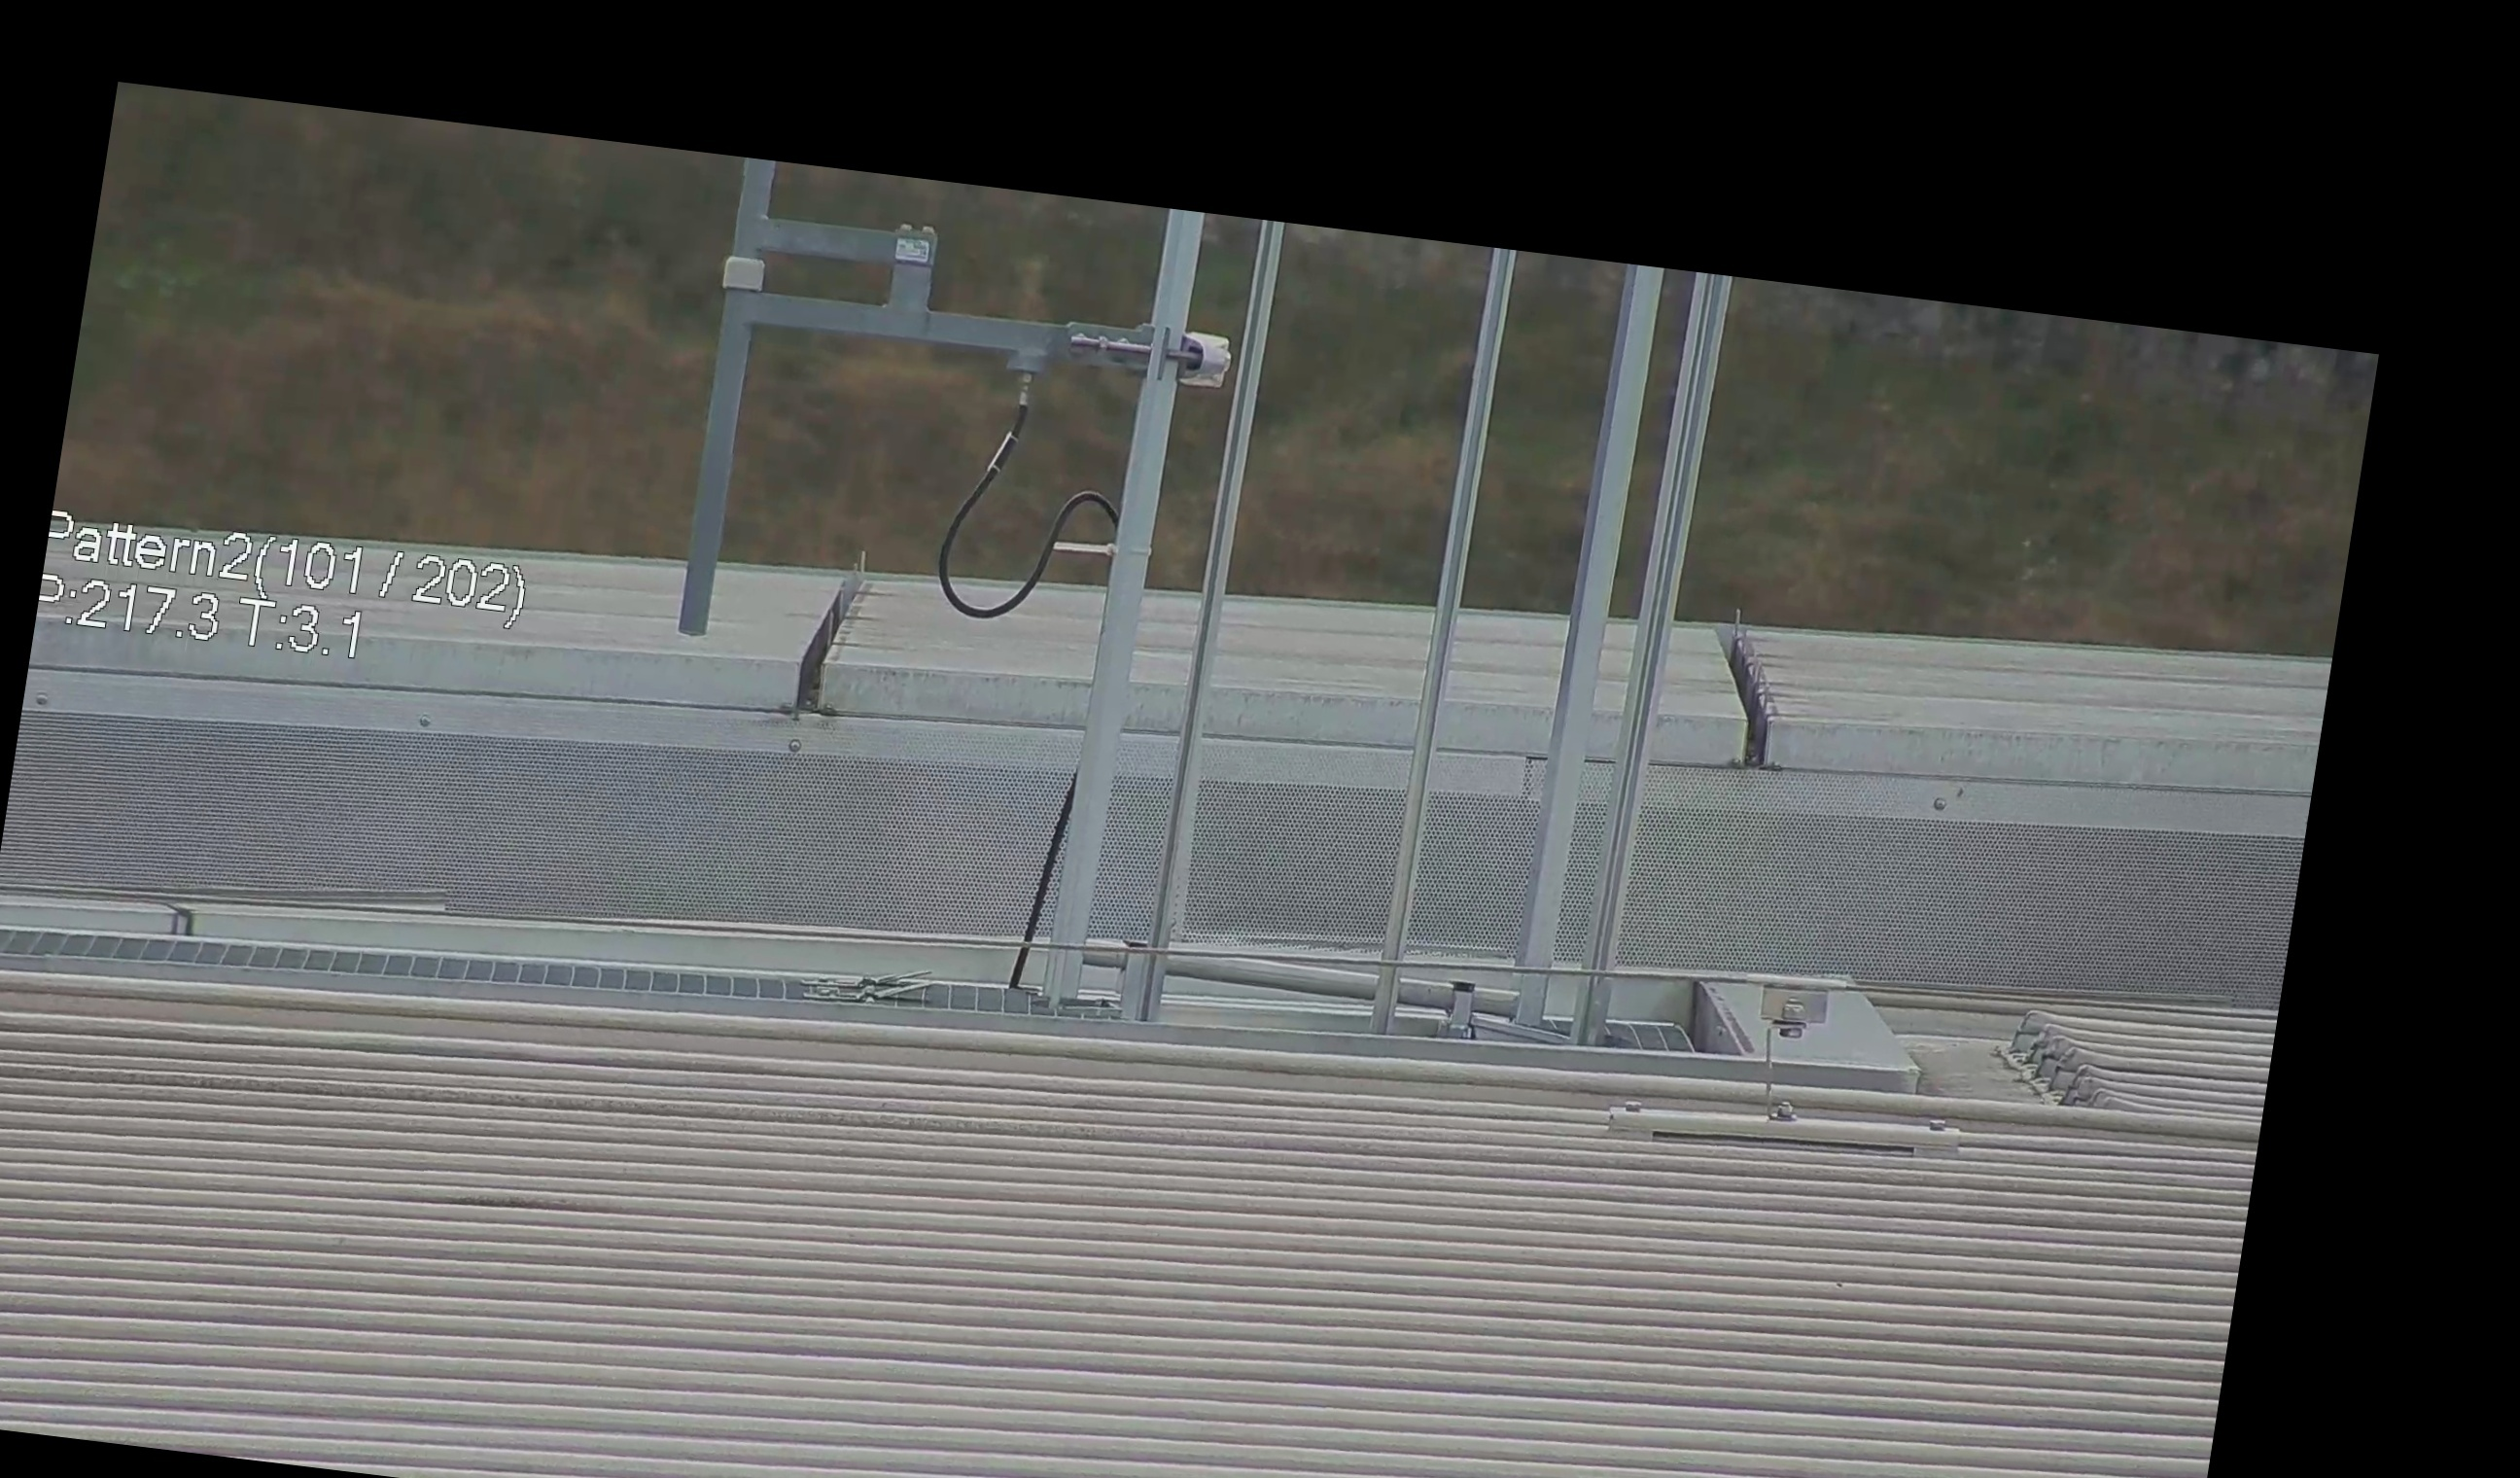Other: (1697, 589, 1818, 772)
